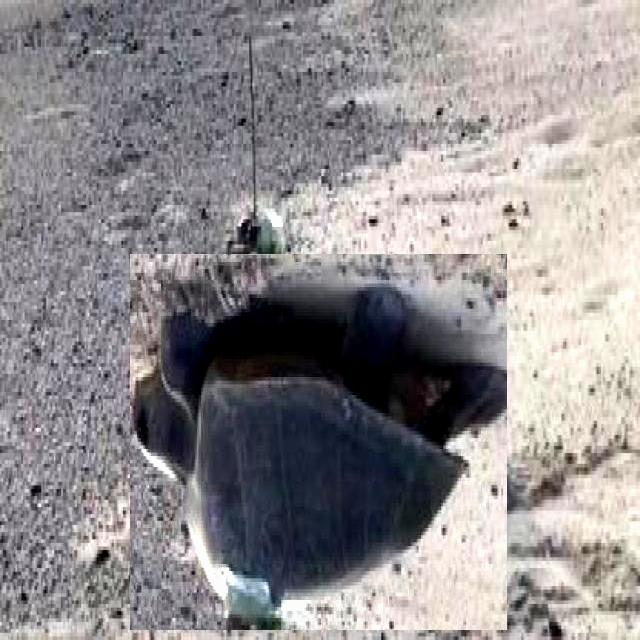Sea turtle: (130, 254, 507, 630)
